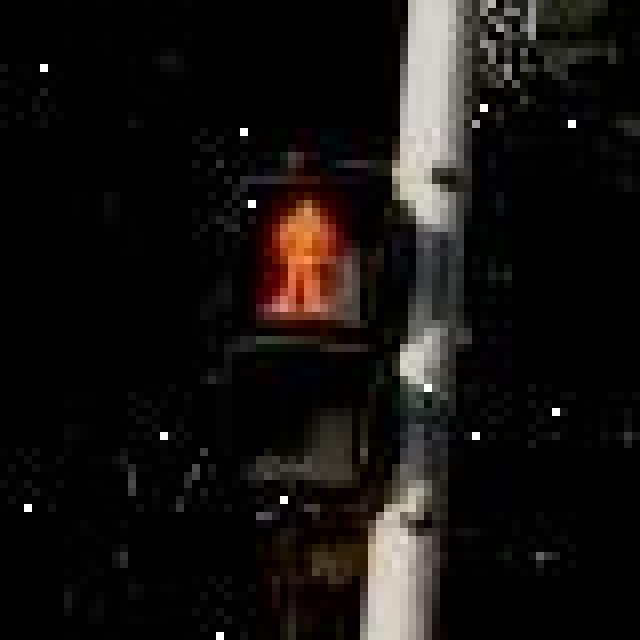redlight: (200, 144, 408, 528)
